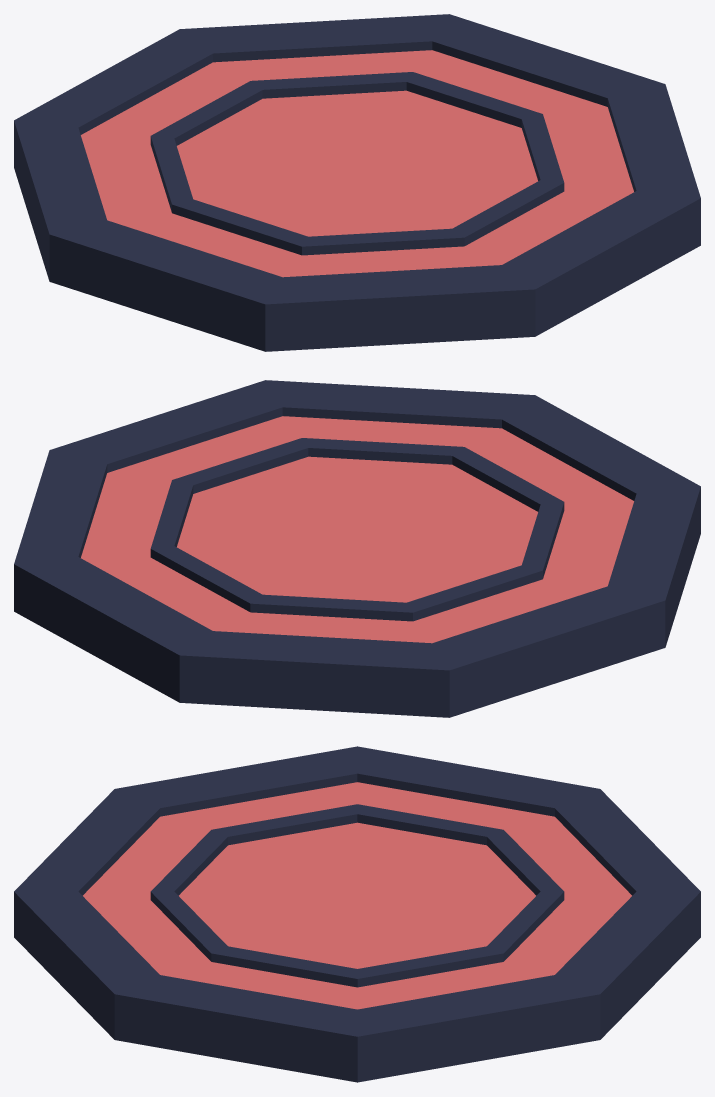
File: Button.fbx
3 renders of one model, top to bottom at view 1: azimuth 30°, elevation 25°; view 2: azimuth 150°, elevation 25°; view 3: azimuth 270°, elevation 25°, orthographic. The views are drawn at different scales.
Parts seen in each view (by area): view 1: Button; view 2: Button; view 3: Button.
Boxes of the visible parts, x1,y1,x2,y2 form: Button: (14, 14, 700, 351); Button: (14, 380, 700, 717); Button: (14, 746, 700, 1082).
Bounding box in the file's own units: 245 × 17.99 × 245.
